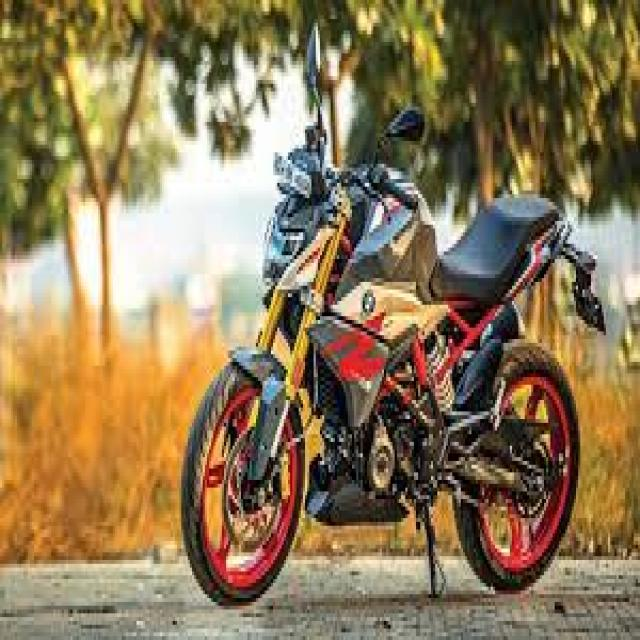MOTORCYCLE: (188, 134, 598, 606)
